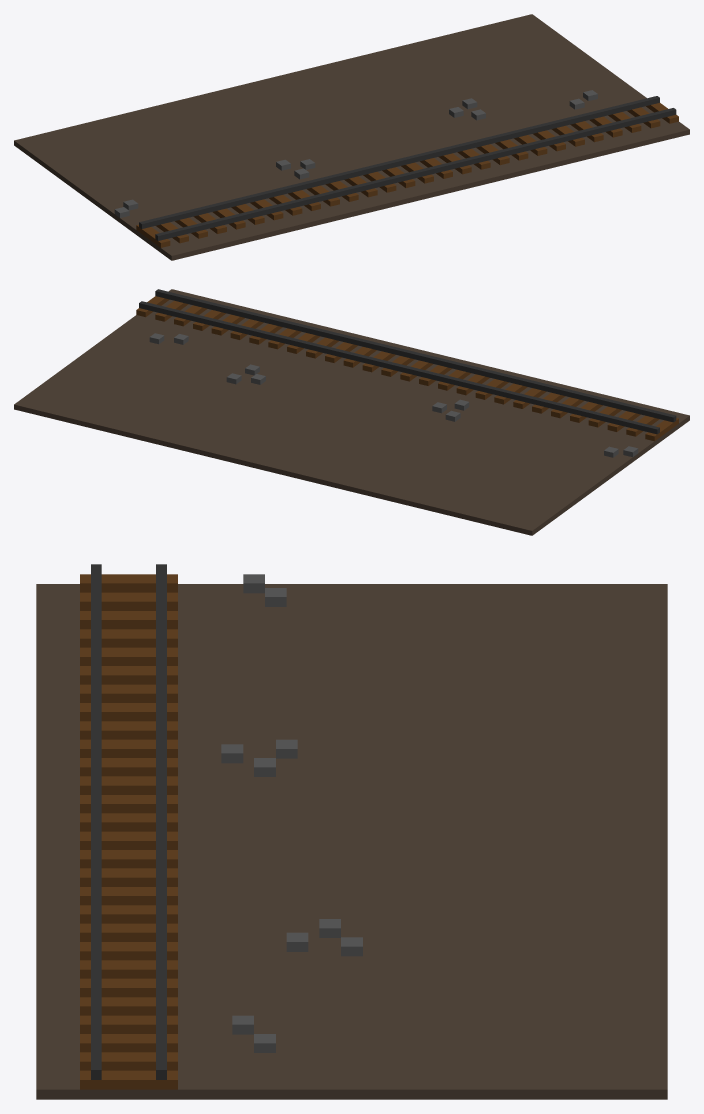
Rendered from Select-0.obj.
3 views of the same model, one above another, from view 1: azimuth 30°, elevation 25°; view 2: azimuth 150°, elevation 25°; view 3: azimuth 270°, elevation 25° (orthographic). The views are drawn at different scales.
Bounding box in the file's own units: 11 × 0.3 × 5.8.
